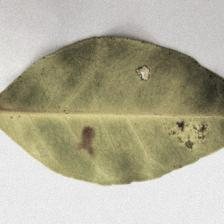canker: (66, 64, 218, 167)
